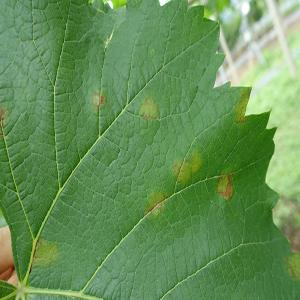Folha: (0, 0, 298, 298)
Fungo: (171, 150, 203, 185), (144, 189, 167, 216), (215, 171, 234, 202), (138, 95, 160, 121), (92, 90, 105, 111)
